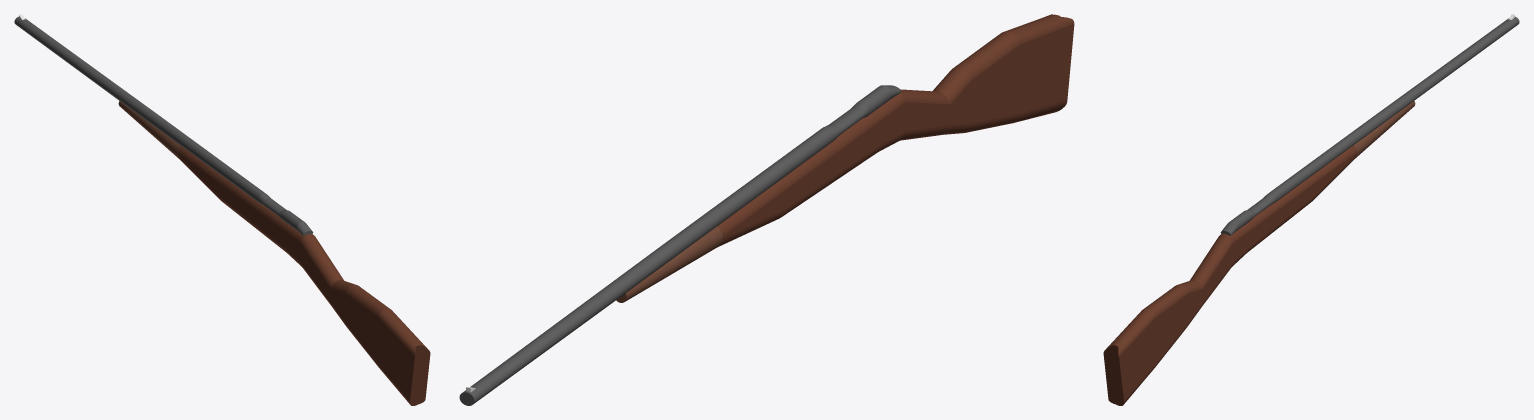
Rendered from rifle-3d.glb.
3 renders of one model, left to right at view 1: azimuth 30°, elevation 25°; view 2: azimuth 150°, elevation 25°; view 3: azimuth 330°, elevation 25°, orthographic. The views are drawn at different scales.
Parts seen in each view (by area): view 1: Cylinder.002, Cylinder, Cylinder.001; view 2: Cylinder.002, Cylinder, Cylinder.001; view 3: Cylinder.002, Cylinder, Cylinder.001.
Boxes of the visible parts, <box> form: Cylinder.002: <box>177,146,430,405</box>; Cylinder: <box>14,16,313,235</box>; Cylinder.001: <box>118,101,180,157</box>; Cylinder.002: <box>717,14,1074,246</box>; Cylinder: <box>459,85,900,405</box>; Cylinder.001: <box>616,226,722,302</box>; Cylinder.002: <box>1103,146,1356,405</box>; Cylinder: <box>1220,16,1519,235</box>; Cylinder.001: <box>1353,101,1415,157</box>.
Size of the model in its own units: 0.109 by 0.6728 by 4.8.
